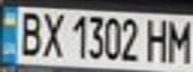0: (103, 14, 124, 62)
1: (66, 11, 87, 60)
2: (118, 15, 145, 63)
3: (84, 12, 106, 61)
B: (12, 8, 45, 57)
H: (142, 16, 172, 63)
M: (163, 17, 193, 64)
X: (39, 9, 66, 58)
